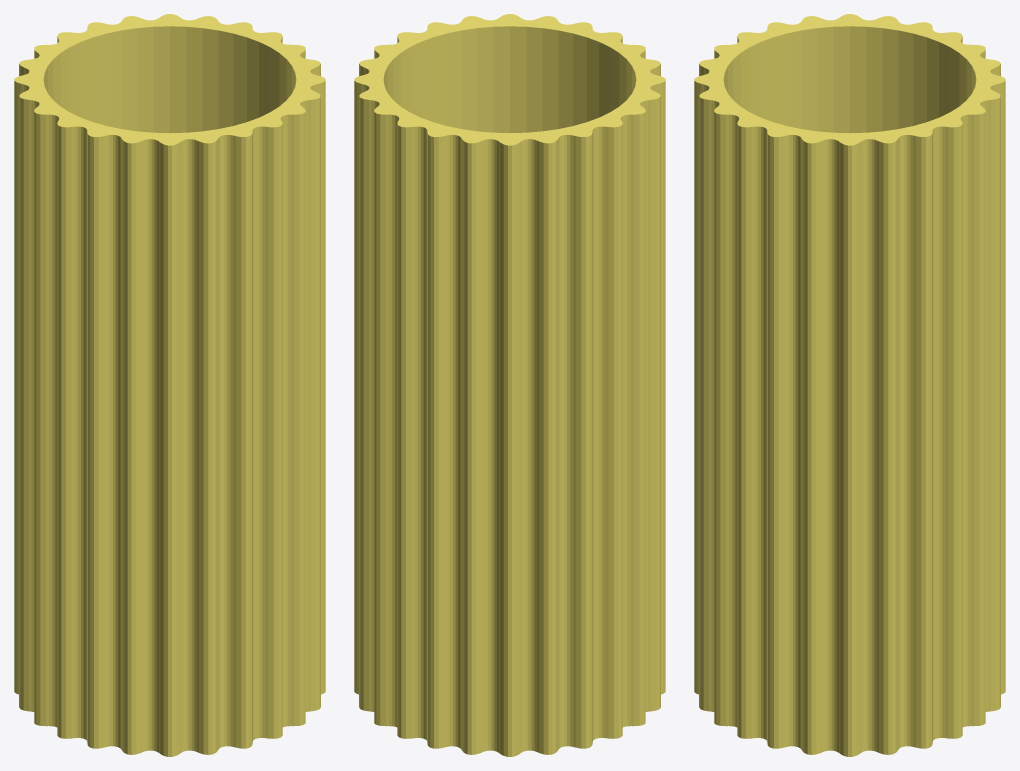
Rendered from Rigatoni.003.gltf.
The picture shows the model from 3 angles, left to right: view 1: azimuth 30°, elevation 25°; view 2: azimuth 150°, elevation 25°; view 3: azimuth 270°, elevation 25°; orthographic projection.
Parts seen in each view (by area): view 1: Rigatoni.003; view 2: Rigatoni.003; view 3: Rigatoni.003.
Boxes of the visible parts, x1,y1,x2,y2 form: Rigatoni.003: (14,14,325,756); Rigatoni.003: (354,14,665,756); Rigatoni.003: (694,14,1005,756).
Bounding box in the file's own units: 0.6819 × 1.48 × 0.6819.
